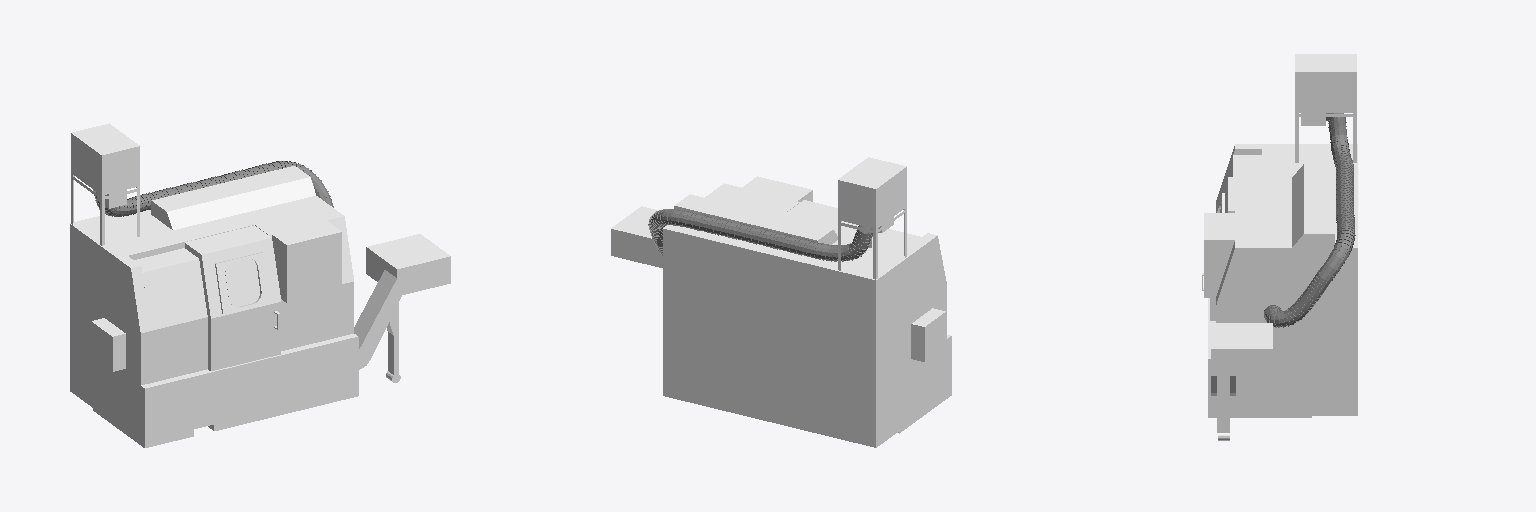
3 renders of one model, left to right at view 1: azimuth 30°, elevation 25°; view 2: azimuth 150°, elevation 25°; view 3: azimuth 270°, elevation 25°, orthographic.
Parts seen in each view (by area): view 1: TC52base, TC52bian, TC52port, TC52corp, TC52scar, TC52, TC52spal, tc5smoto, TC52pan, TC52tubo, tc52_aer, TC52vetr (+1 smaller); view 2: TC52bian, TC52spal, TC52tubo, tc5smoto, TC52base, TC52scar, tc52_aer, TC52, TC52_g_m, TC52port; view 3: TC52bian, TC52, TC52base, TC52scar, TC52tubo, tc5smoto, TC52port, TC52corp, TC52spal, TC52_g_m.
Boxes of the visible parts, <box> form: TC52base: <box>93,334,358,447</box>; TC52bian: <box>70,166,340,407</box>; TC52port: <box>185,225,280,370</box>; TC52corp: <box>134,248,207,382</box>; TC52scar: <box>354,234,450,382</box>; TC52: <box>241,196,353,350</box>; TC52spal: <box>93,239,150,385</box>; tc5smoto: <box>71,123,139,208</box>; TC52pan: <box>285,231,341,302</box>; TC52tubo: <box>93,161,333,216</box>; tc52_aer: <box>91,318,125,371</box>; TC52vetr: <box>225,258,259,306</box>; TC52bian: <box>663,178,912,447</box>; TC52spal: <box>890,233,946,373</box>; TC52tubo: <box>648,209,872,261</box>; tc5smoto: <box>838,157,906,232</box>; TC52base: <box>898,335,951,433</box>; TC52scar: <box>611,206,662,267</box>; tc52_aer: <box>911,308,945,361</box>; TC52: <box>705,183,799,215</box>; TC52_g_m: <box>838,207,906,279</box>; TC52port: <box>788,200,858,226</box>; TC52bian: <box>1208,144,1357,415</box>; TC52: <box>1216,211,1311,358</box>; TC52base: <box>1208,298,1311,417</box>; TC52scar: <box>1211,323,1272,440</box>; TC52tubo: <box>1264,113,1355,327</box>; tc5smoto: <box>1295,54,1356,125</box>; TC52port: <box>1210,177,1261,320</box>; TC52corp: <box>1216,155,1261,210</box>; TC52spal: <box>1216,144,1311,204</box>; TC52_g_m: <box>1295,113,1356,162</box>.
Bounding box in the file's own units: 335 × 260 × 141.